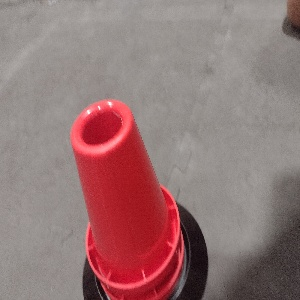Red_2: (68, 93, 186, 299)
